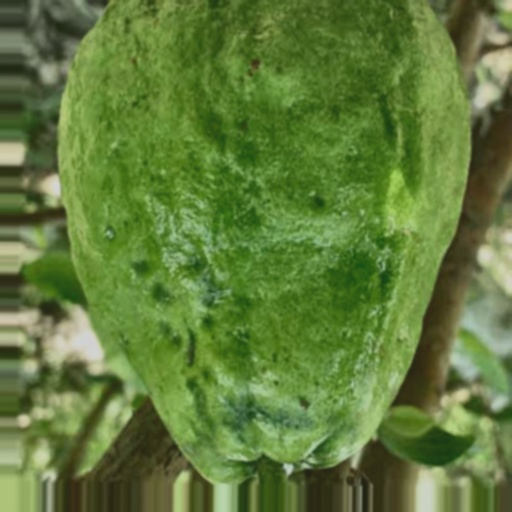guava: (71, 0, 393, 436)
